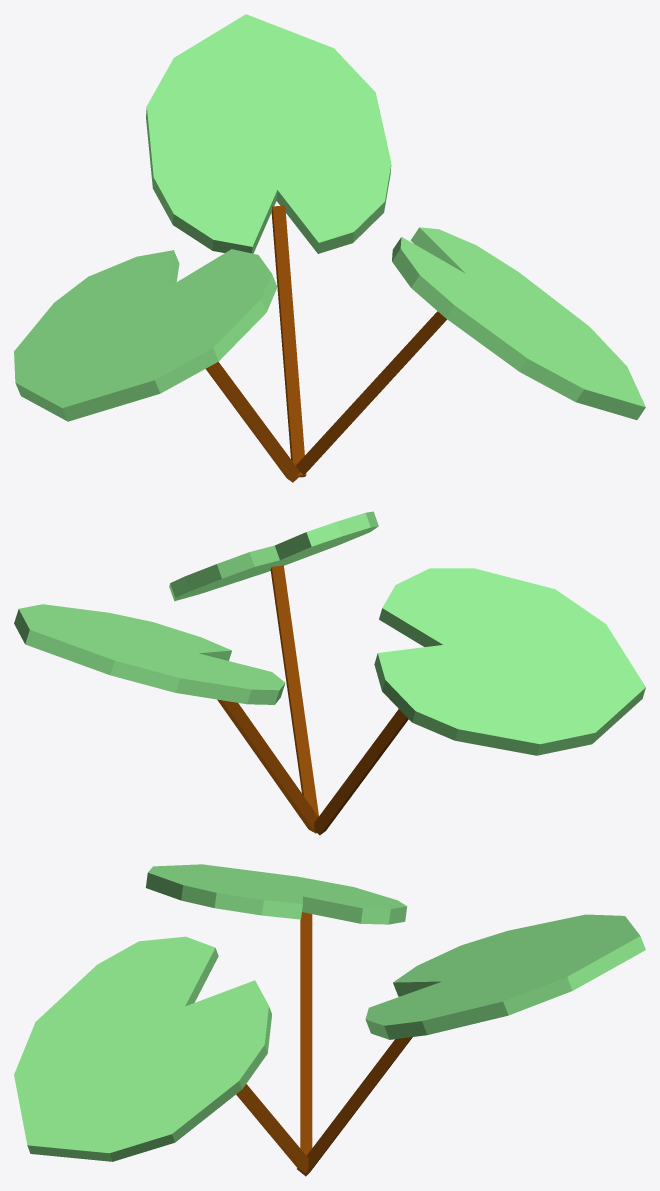
Rendered from leaf.glb.
3 renders of one model, top to bottom at view 1: azimuth 30°, elevation 25°; view 2: azimuth 150°, elevation 25°; view 3: azimuth 270°, elevation 25°, orthographic. The views are drawn at different scales.
Parts seen in each view (by area): view 1: Cube.022; view 2: Cube.022; view 3: Cube.022.
Boxes of the visible parts, bbox=[...] form: Cube.022: bbox=[14, 14, 645, 482]; Cube.022: bbox=[14, 511, 645, 835]; Cube.022: bbox=[14, 864, 645, 1176].
Bounding box in the file's own units: 0.845 × 0.4801 × 0.933.
